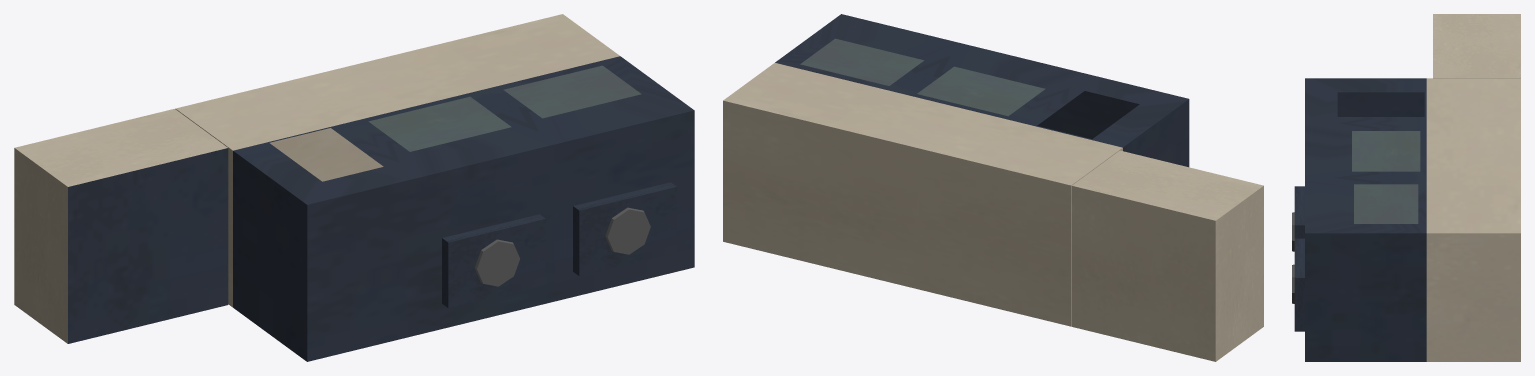
The model's file is nt_2020_grill_LOD1.obj.
The picture shows the model from 3 angles, left to right: view 1: azimuth 30°, elevation 25°; view 2: azimuth 150°, elevation 25°; view 3: azimuth 270°, elevation 25°; orthographic projection. The views are drawn at different scales.
Visible parts, largest first — view 1: mp_b_laminate_blue, nt_2020_metal_beige, com_glass_clear, nt_2020_metal_brushed; view 2: nt_2020_metal_beige, mp_b_laminate_blue, com_glass_clear; view 3: nt_2020_metal_beige, mp_b_laminate_blue, com_glass_clear, nt_2020_metal_brushed.
Part boxes in pixels (x1,y1,x2,y2): mp_b_laminate_blue: (68, 56, 694, 361); nt_2020_metal_beige: (14, 14, 619, 343); com_glass_clear: (368, 65, 641, 151); nt_2020_metal_brushed: (474, 207, 650, 286); nt_2020_metal_beige: (723, 63, 1263, 361); mp_b_laminate_blue: (775, 14, 1189, 167); com_glass_clear: (800, 38, 1045, 116); nt_2020_metal_beige: (1426, 14, 1520, 361); mp_b_laminate_blue: (1294, 78, 1426, 361); com_glass_clear: (1352, 131, 1420, 223); nt_2020_metal_brushed: (1292, 212, 1294, 303).
Size of the model in its own units: 465 by 127 by 205.
